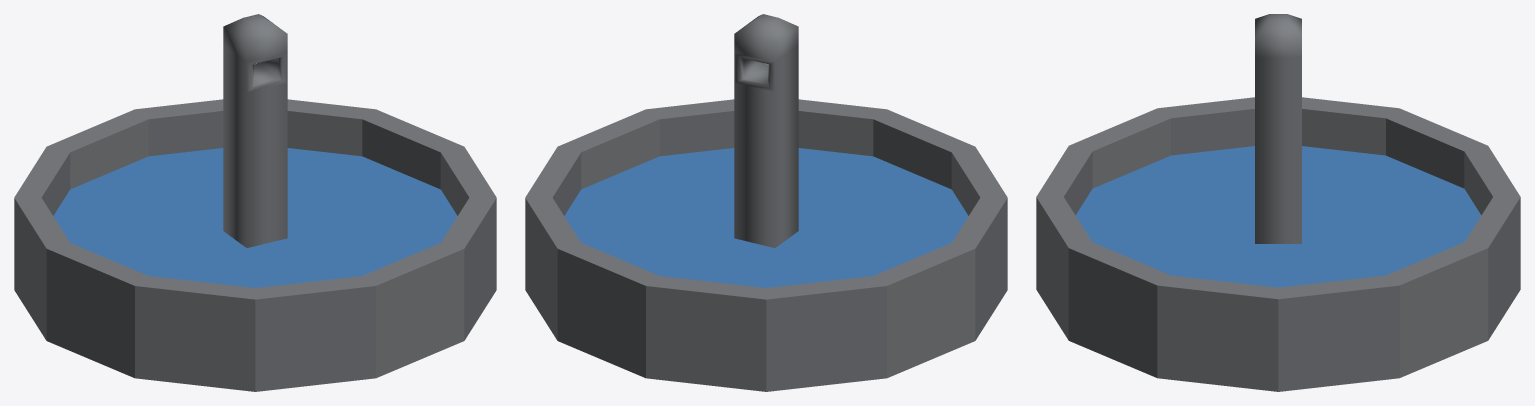
The model's file is Fountain_2.fbx.
The picture shows the model from 3 angles, left to right: view 1: azimuth 30°, elevation 25°; view 2: azimuth 150°, elevation 25°; view 3: azimuth 270°, elevation 25°; orthographic projection.
Visible parts, largest first — view 1: Fountain_2; view 2: Fountain_2; view 3: Fountain_2.
Part boxes in pixels (x1,y1,x2,y2): Fountain_2: (14, 14, 496, 391); Fountain_2: (525, 14, 1007, 391); Fountain_2: (1036, 14, 1520, 391).
Size of the model in its own units: 244 by 151 by 244.
